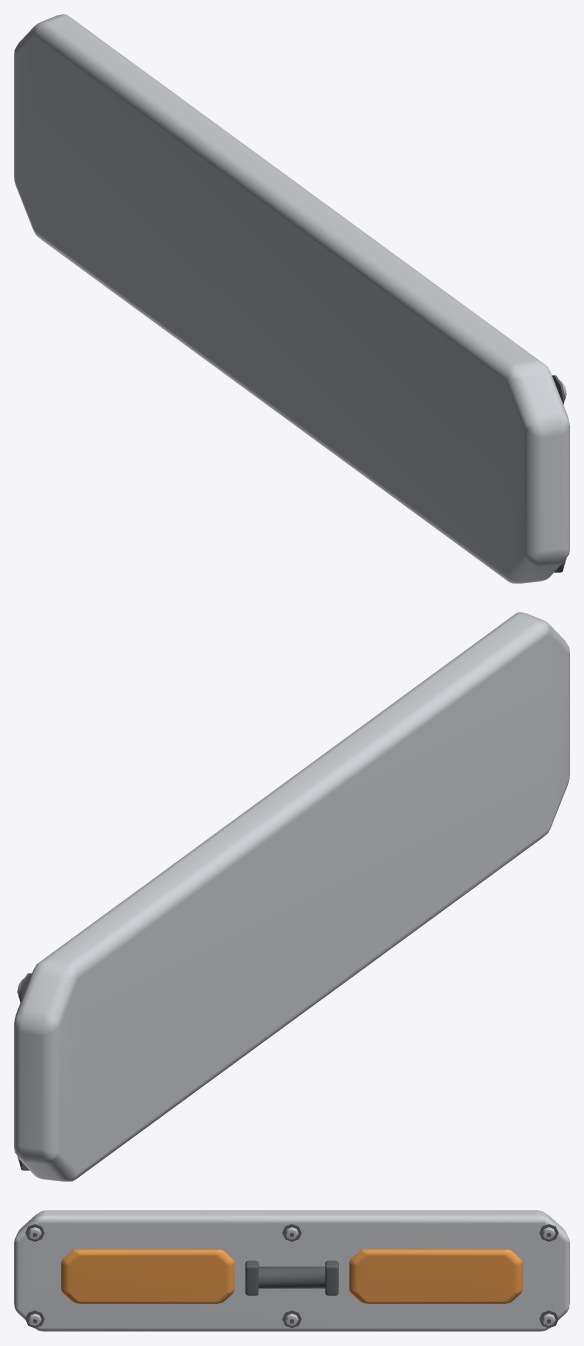
The model's file is plate_wedge_rear.glb.
3 views of the same model, one above another, from view 1: azimuth 30°, elevation 25°; view 2: azimuth 150°, elevation 25°; view 3: azimuth 270°, elevation 25° (orthographic). The views are drawn at different scales.
Visible parts, largest first — view 1: body; view 2: body; view 3: body.
Boxes of the visible parts, x1,y1,x2,y2 form: body: (14, 14, 569, 583); body: (14, 612, 569, 1181); body: (14, 1210, 569, 1331).
Bounding box in the file's own units: 0.036 × 0.1155 × 0.5019.
